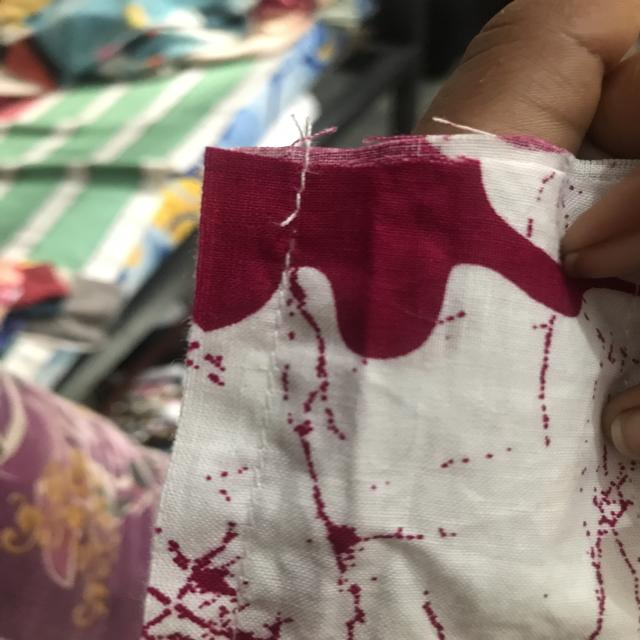broken: (270, 196, 327, 272)
